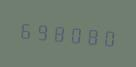eight: (50, 18, 65, 46), (82, 21, 97, 49)
nine: (33, 17, 48, 45)
six: (17, 15, 32, 43)
zero: (66, 19, 81, 48), (98, 22, 113, 50)
